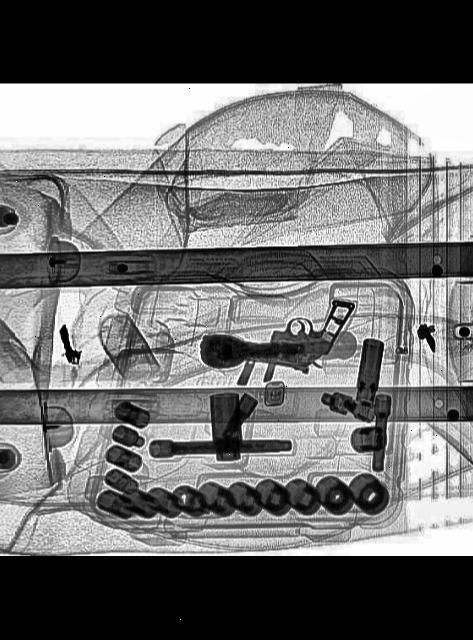Gun: (196, 279, 355, 380)
